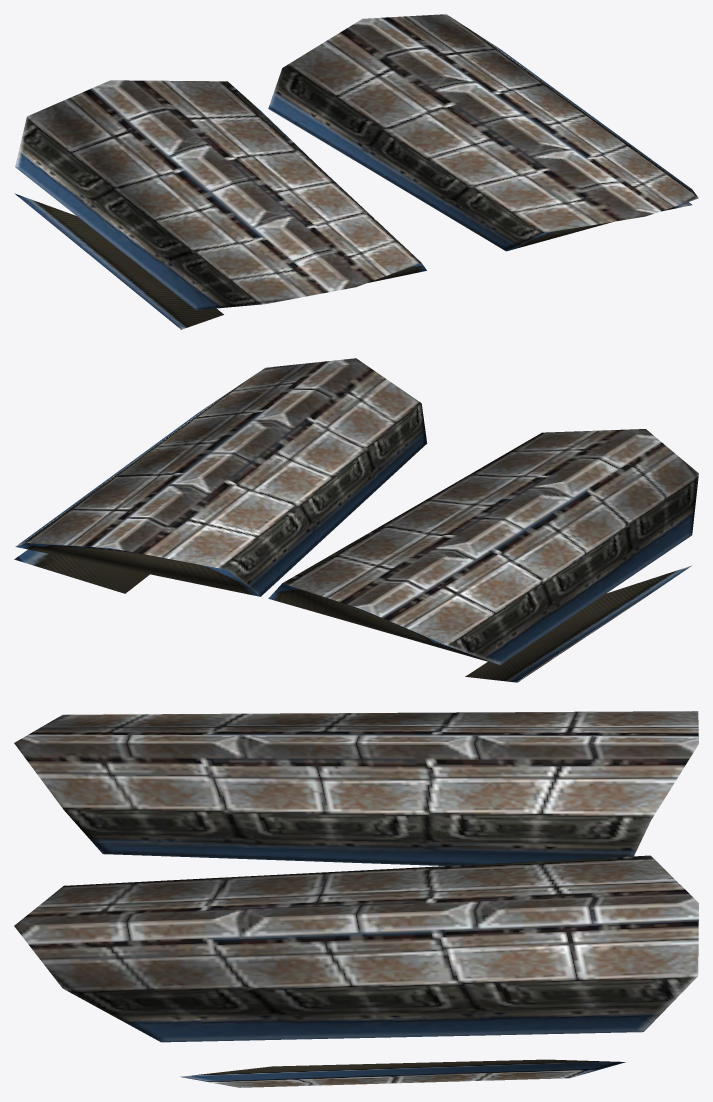
The model's file is LegPads5__LED.glb.
The picture shows the model from 3 angles, top to bottom: view 1: azimuth 30°, elevation 25°; view 2: azimuth 150°, elevation 25°; view 3: azimuth 270°, elevation 25°; orthographic projection. The views are drawn at different scales.
Visible parts, largest first — view 1: LegPads5; view 2: LegPads5; view 3: LegPads5.
Part boxes in pixels (x1=…): LegPads5: x1=14, y1=14, x2=698, y2=329; LegPads5: x1=14, y1=358, x2=698, y2=682; LegPads5: x1=14, y1=711, x2=698, y2=1087.
Bounding box in the file's own units: 21.54 × 4.08 × 19.31.
1 material, 1 textured.
